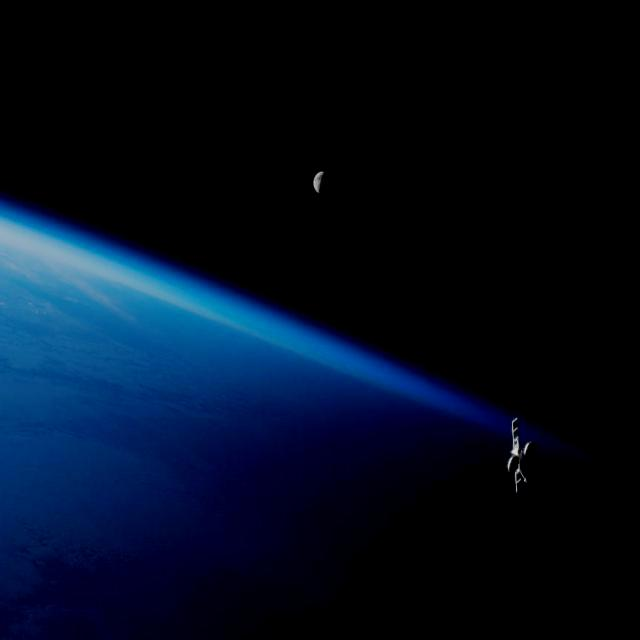satellite: (488, 416, 548, 508)
